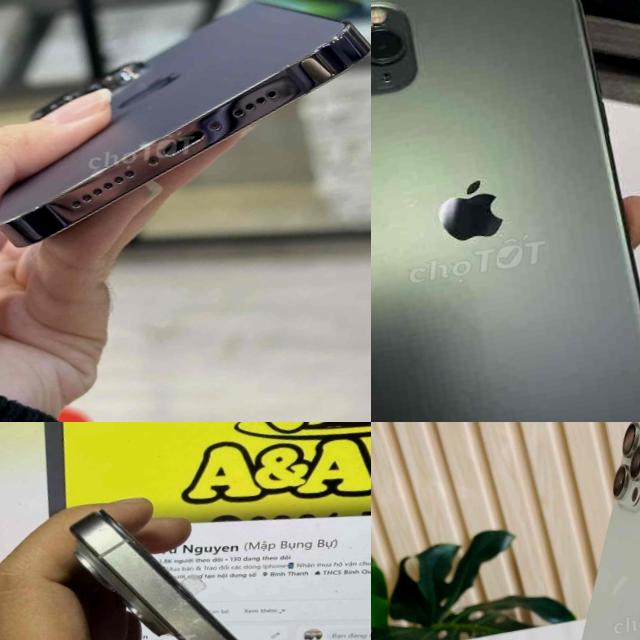gen_11: (371, 0, 640, 422)
gen_14: (0, 0, 371, 251)
gen_15: (26, 470, 317, 640), (488, 422, 640, 640)
